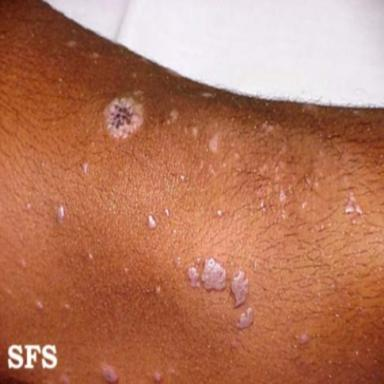lichen: (104, 98, 143, 138), (187, 258, 227, 291), (230, 270, 248, 307), (344, 192, 362, 216), (237, 308, 253, 329), (102, 365, 118, 384), (55, 204, 65, 227), (208, 134, 219, 152), (295, 332, 310, 344), (147, 214, 157, 230), (80, 161, 89, 176), (169, 109, 179, 121), (191, 126, 199, 138), (67, 40, 77, 48), (179, 174, 186, 182), (164, 208, 170, 217)
